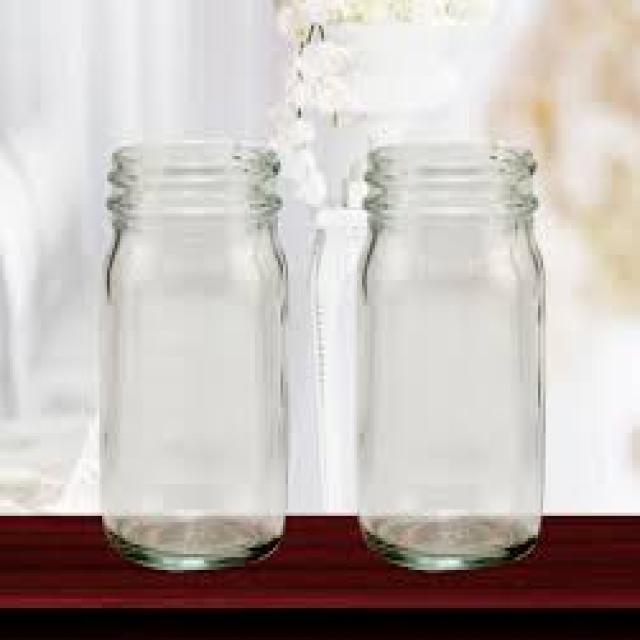glass: (94, 140, 283, 567), (355, 140, 543, 567)
